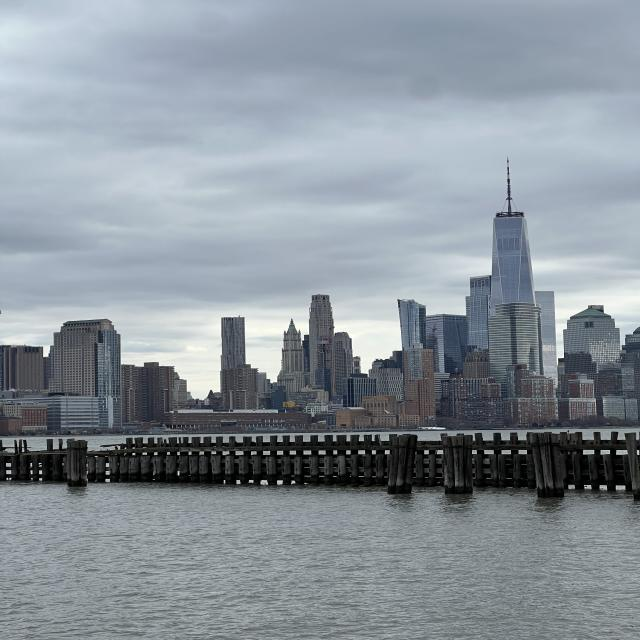WTC: (490, 155, 535, 305)
